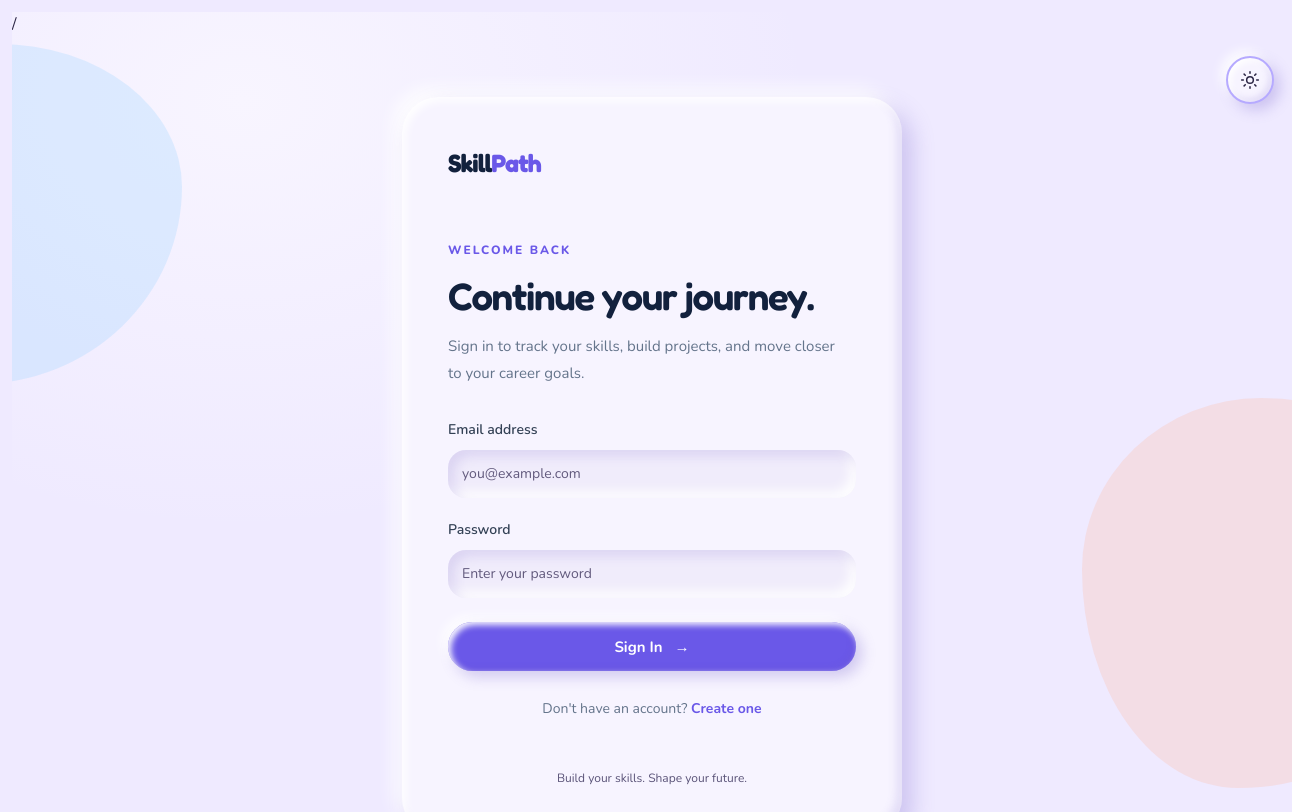
Test case: Additional page branches › validates a missing login password
Step 1. Type "alex@example.com" into the field labelled "Email address" → (652, 474), box [448, 450, 856, 498]
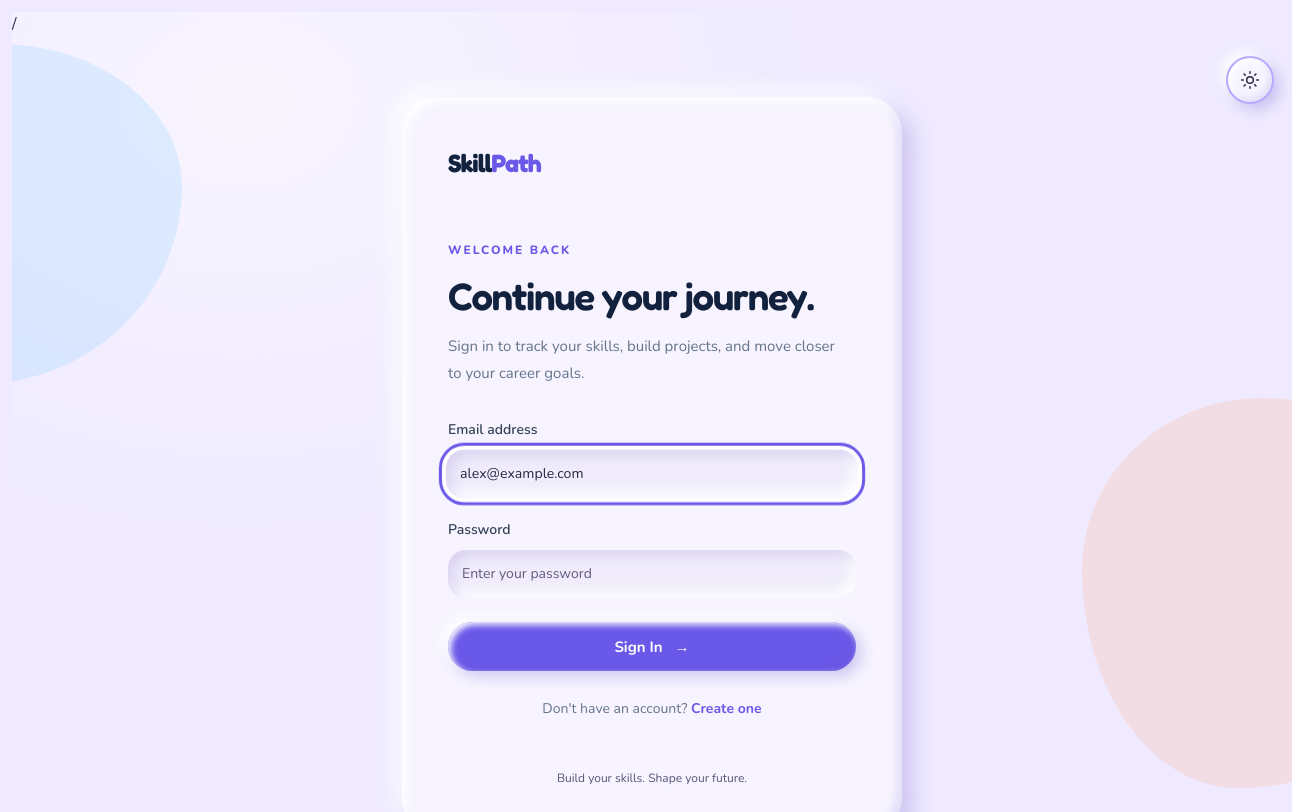
Step 2. Submit the form, box [448, 419, 856, 672]
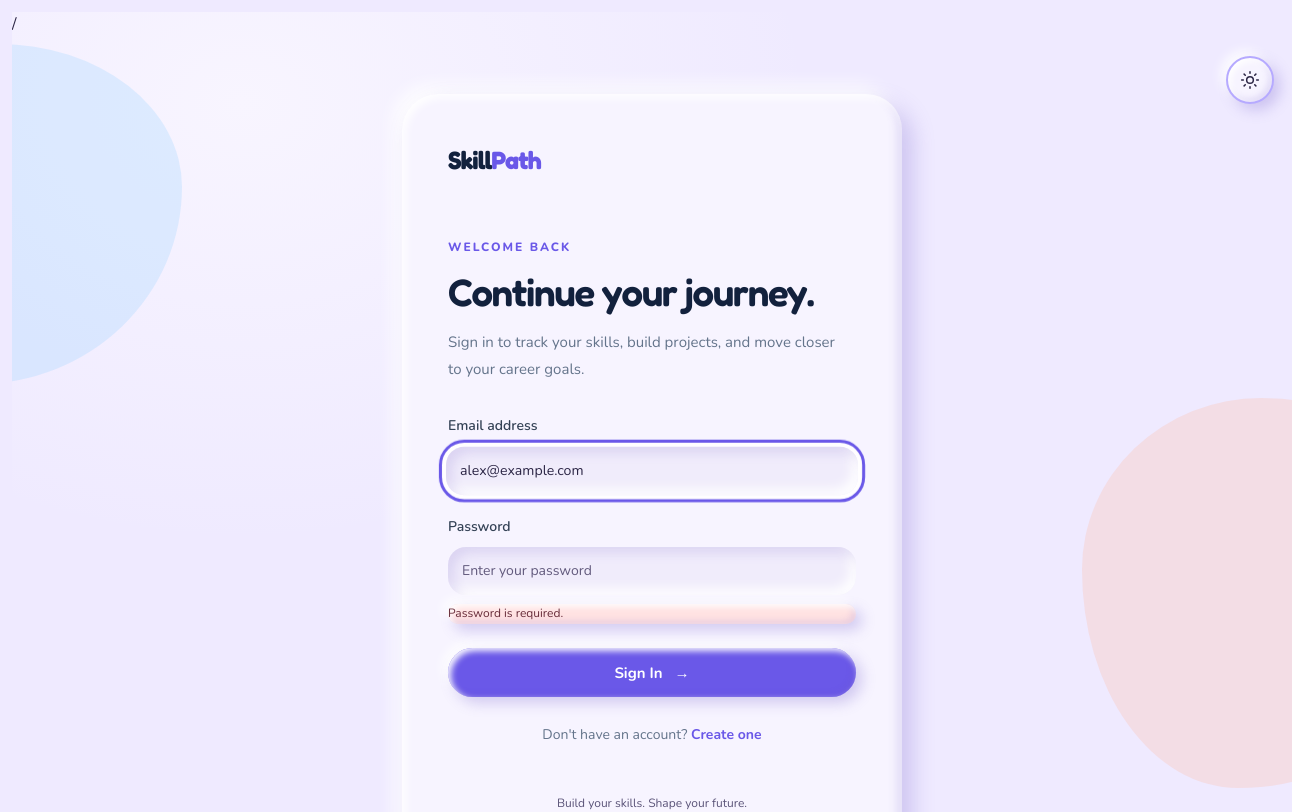
Result: the text "Password is required." is shown at [448, 604, 856, 624]
